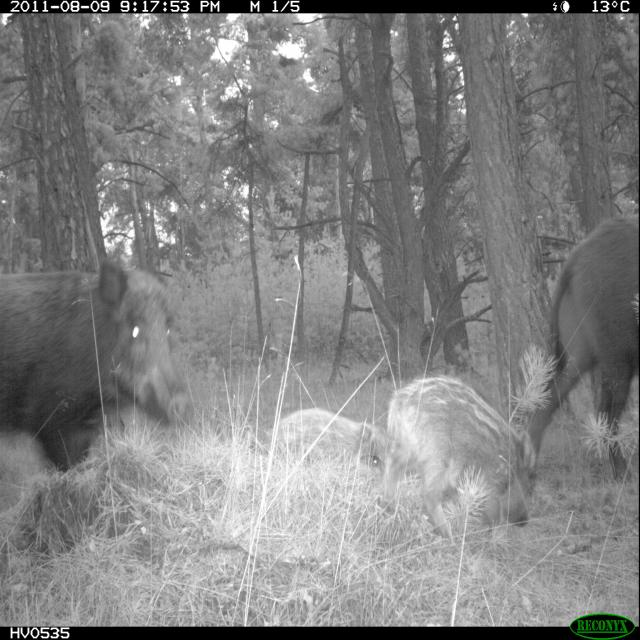boar: (0, 203, 208, 499), (487, 128, 640, 505), (384, 358, 565, 548), (261, 383, 391, 478)
